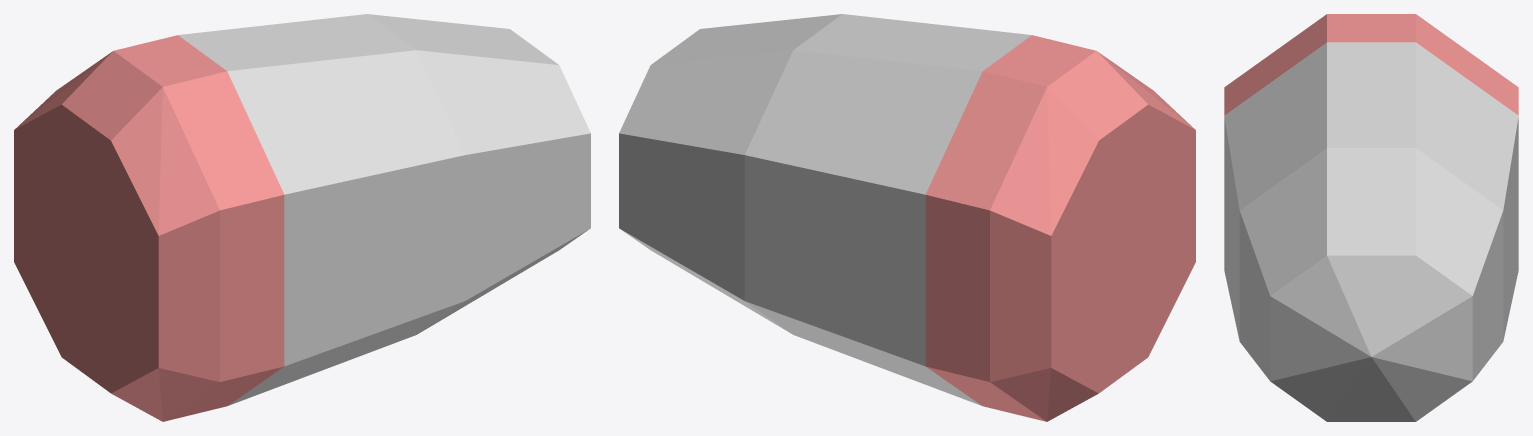
File: PropellerEngine.fbx
The picture shows the model from 3 angles, left to right: view 1: azimuth 30°, elevation 25°; view 2: azimuth 150°, elevation 25°; view 3: azimuth 270°, elevation 25°; orthographic projection. The views are drawn at different scales.
Parts seen in each view (by area): view 1: PropellerEngine; view 2: PropellerEngine; view 3: PropellerEngine.
Boxes of the visible parts, x1,y1,x2,y2 form: PropellerEngine: (14, 14, 590, 421); PropellerEngine: (619, 14, 1195, 421); PropellerEngine: (1224, 14, 1518, 421).
Size of the model in its own units: 82.39 by 53.83 by 47.68.
